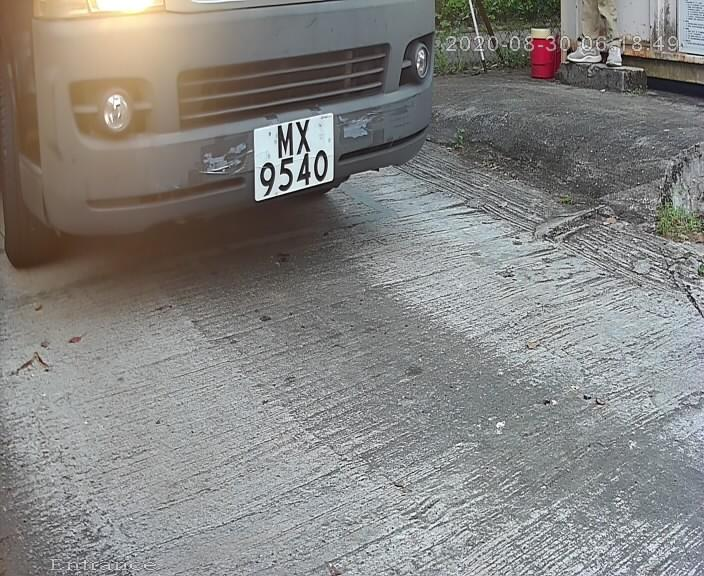License Plate: (239, 109, 340, 204)
